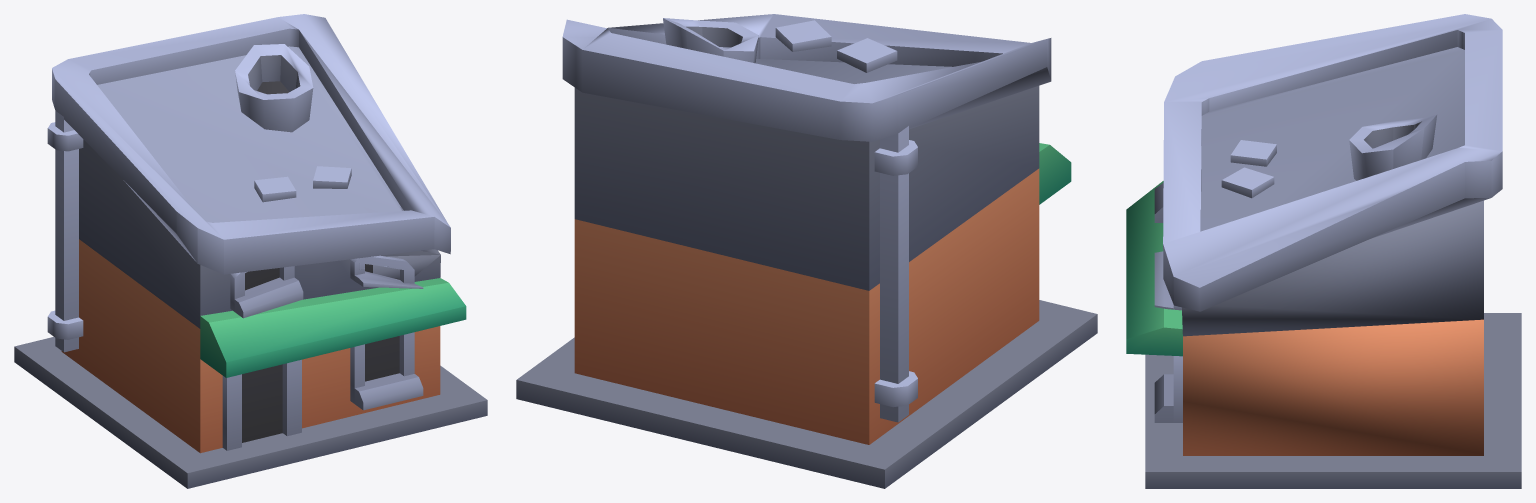
File: building_dent.glb
3 renders of one model, left to right at view 1: azimuth 30°, elevation 25°; view 2: azimuth 150°, elevation 25°; view 3: azimuth 270°, elevation 25°, orthographic. The views are drawn at different scales.
Visible parts, largest first — view 1: building-small-d; view 2: building-small-d; view 3: building-small-d.
Part boxes in pixels (bbox=[...]): building-small-d: bbox=[14, 14, 487, 488]; building-small-d: bbox=[516, 14, 1097, 488]; building-small-d: bbox=[1126, 14, 1521, 488].
Size of the model in its own units: 1 by 0.95 by 1.05.
Materials: 1 (1 with a texture image).
